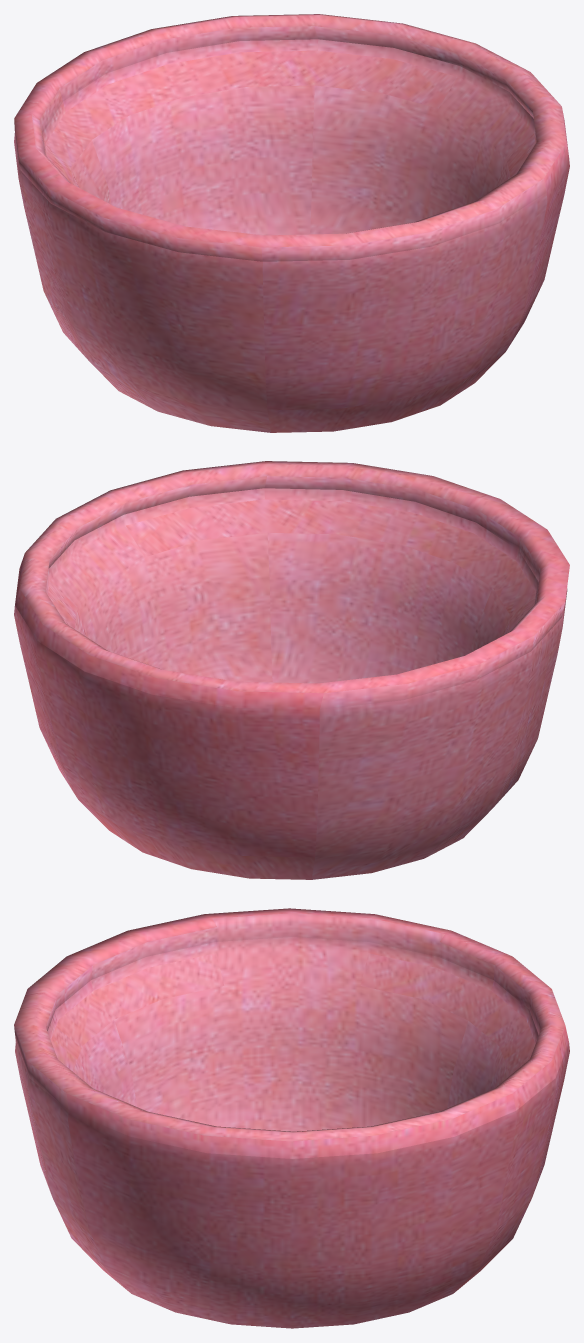
The model's file is Bowl Fbx 3 .fbx.
The picture shows the model from 3 angles, top to bottom: view 1: azimuth 30°, elevation 25°; view 2: azimuth 150°, elevation 25°; view 3: azimuth 270°, elevation 25°; orthographic projection.
Visible parts, largest first — view 1: pCylinder1; view 2: pCylinder1; view 3: pCylinder1.
Part boxes in pixels (<box>): pCylinder1: <box>14,14,569,432</box>; pCylinder1: <box>14,461,569,879</box>; pCylinder1: <box>14,908,569,1328</box>.
Bounding box in the file's own units: 2.88 × 1.27 × 2.88.
Materials: 1 (1 with a texture image).
